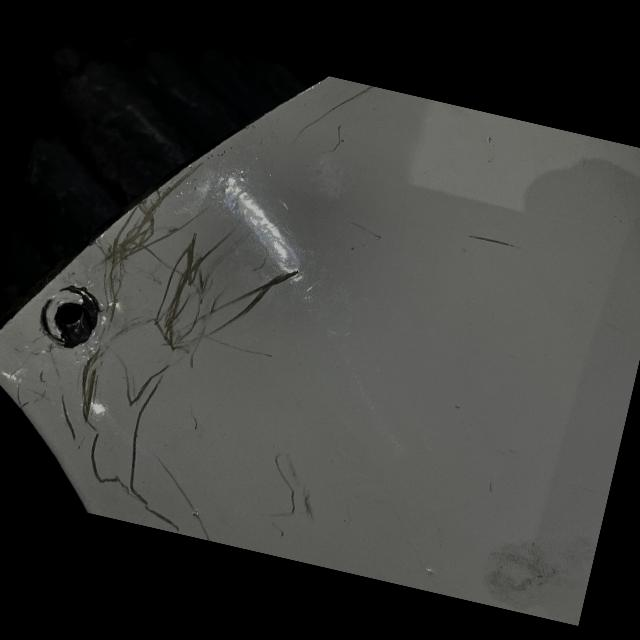Missing Fastener: (34, 282, 104, 356)
